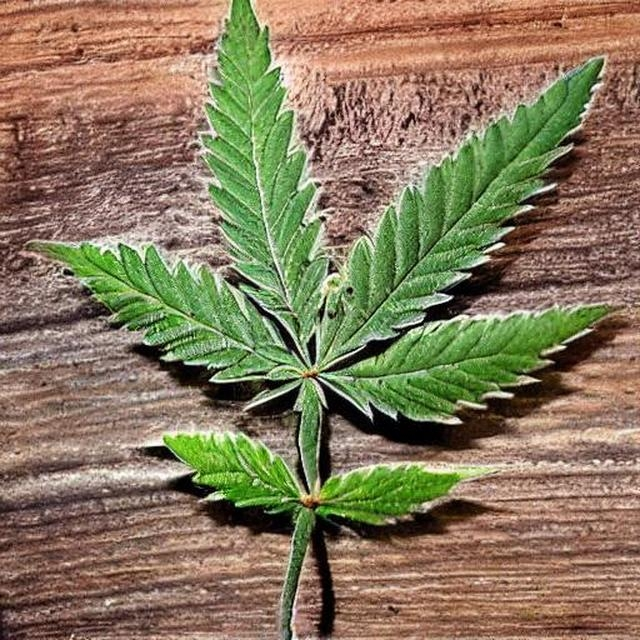Marijuana Leaf: (23, 0, 624, 639)
